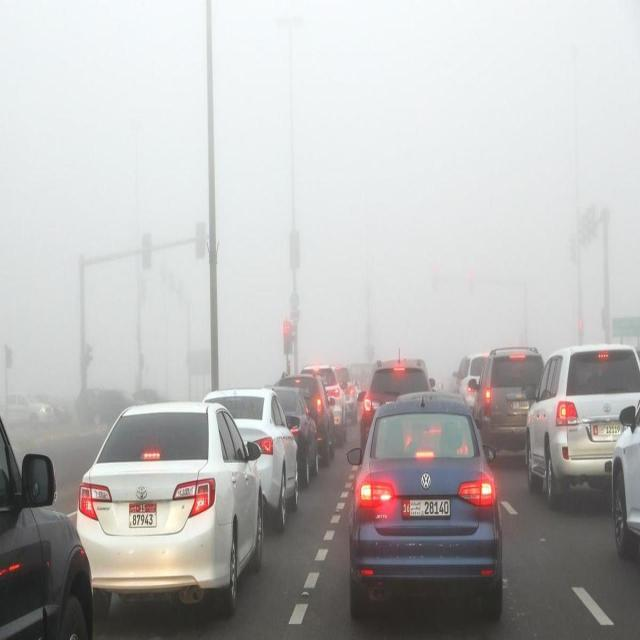car: (74, 397, 266, 617), (345, 396, 507, 624), (0, 389, 98, 639), (524, 340, 640, 510), (211, 385, 303, 531), (473, 343, 545, 461), (354, 358, 432, 452), (611, 358, 637, 561), (272, 382, 324, 482), (281, 373, 333, 465), (298, 363, 351, 442), (6, 378, 55, 426), (460, 354, 488, 414)
